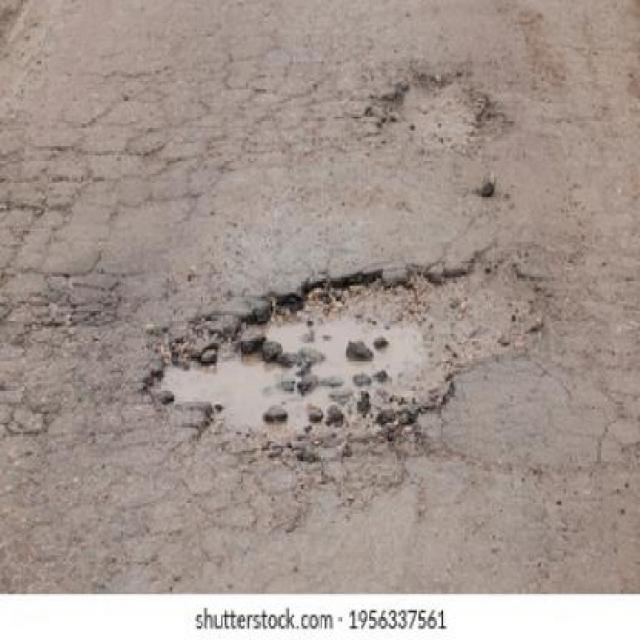Pothole: (130, 249, 550, 469), (363, 55, 512, 158)
